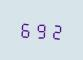nine: (34, 19, 48, 40)
six: (18, 18, 32, 39)
two: (49, 20, 63, 41)
